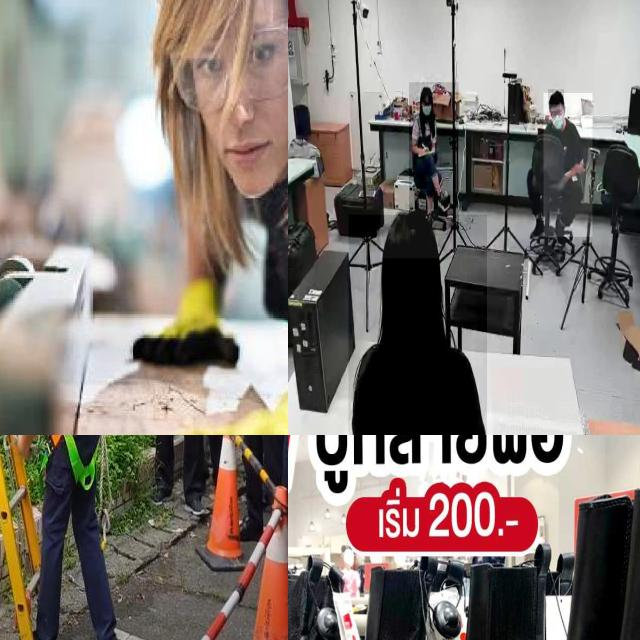Ear-protection: (136, 0, 288, 100)
Harness: (17, 435, 100, 493)
Sandals: (453, 456, 640, 640)
face_mask: (420, 97, 436, 126), (552, 107, 566, 129)
glasses: (159, 15, 288, 121)
hand_noglove: (419, 144, 429, 156)
head_nohelmet: (142, 0, 288, 216), (381, 209, 439, 259), (548, 90, 564, 106), (419, 85, 433, 97)
person: (119, 0, 288, 435), (348, 214, 487, 435), (409, 82, 459, 230), (543, 93, 593, 238)
shoes: (528, 214, 548, 241), (552, 214, 566, 243), (436, 190, 451, 214)
